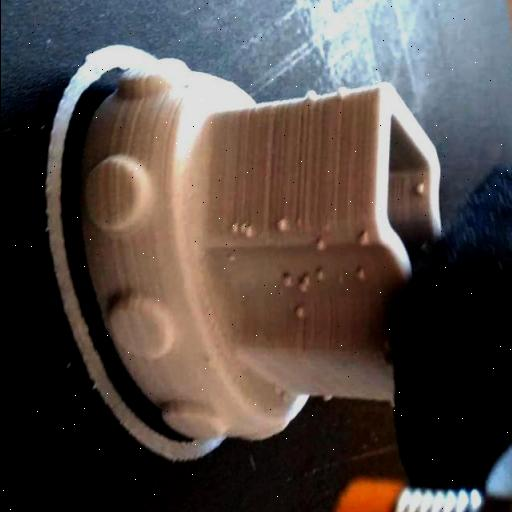blobs: (310, 265, 328, 289), (287, 303, 308, 322), (354, 226, 372, 248), (296, 274, 312, 296), (334, 84, 352, 102), (312, 236, 330, 254), (242, 224, 260, 242), (320, 386, 338, 404), (277, 272, 293, 292), (352, 266, 366, 288), (274, 214, 288, 233), (228, 220, 242, 237), (306, 87, 318, 105), (410, 182, 424, 196)
